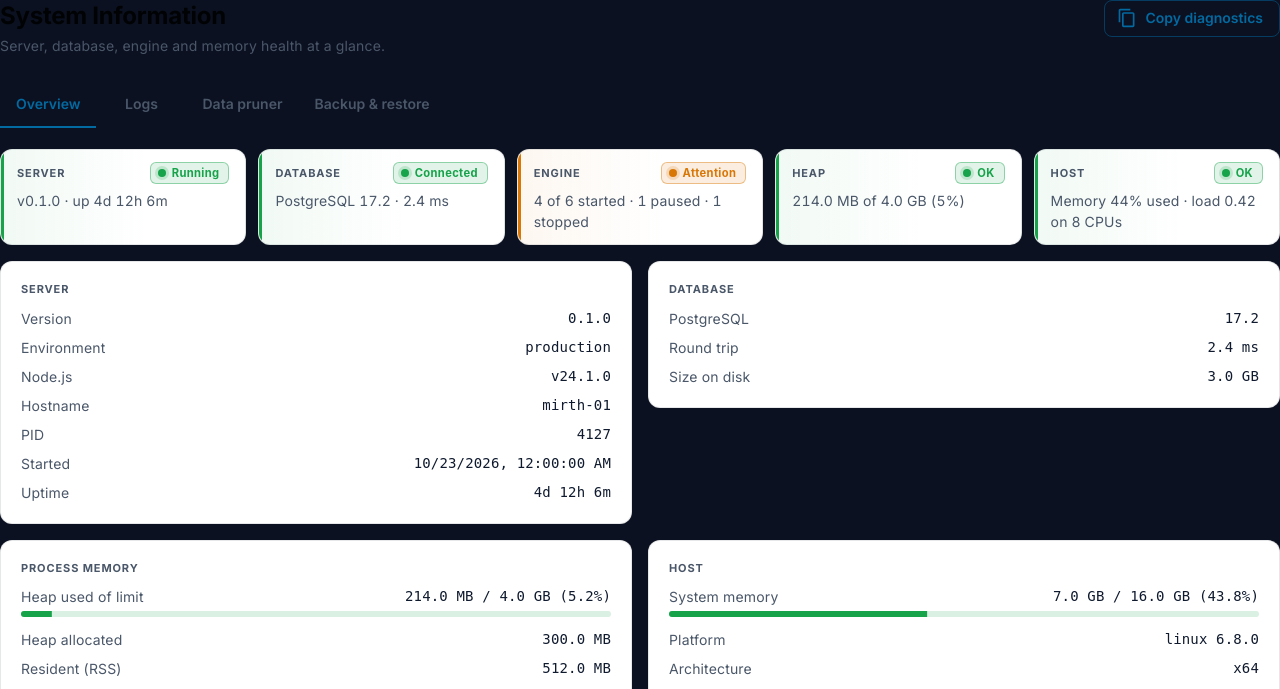
it: SystemInfoPage tabs › moves to a tab’s own path with one click
Click the tab "Logs": (142, 104) [96,80,186,128]
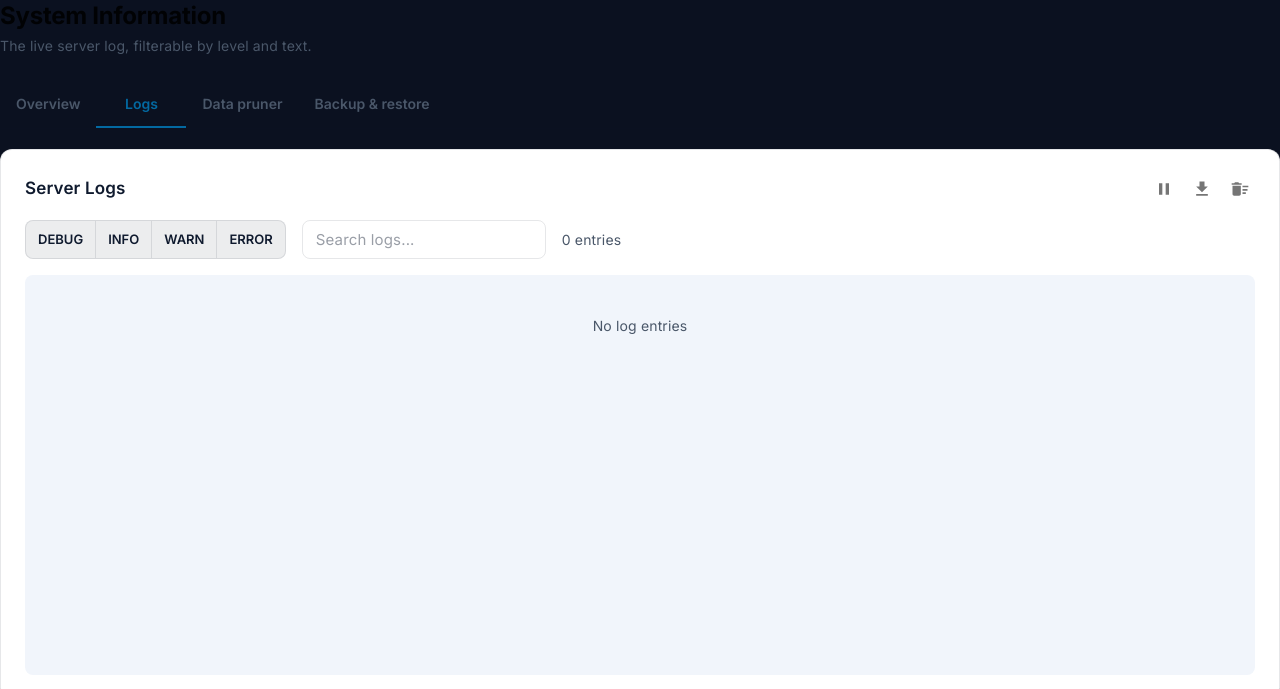
Click the tab "Backup & restore": (372, 104) [298,80,446,128]
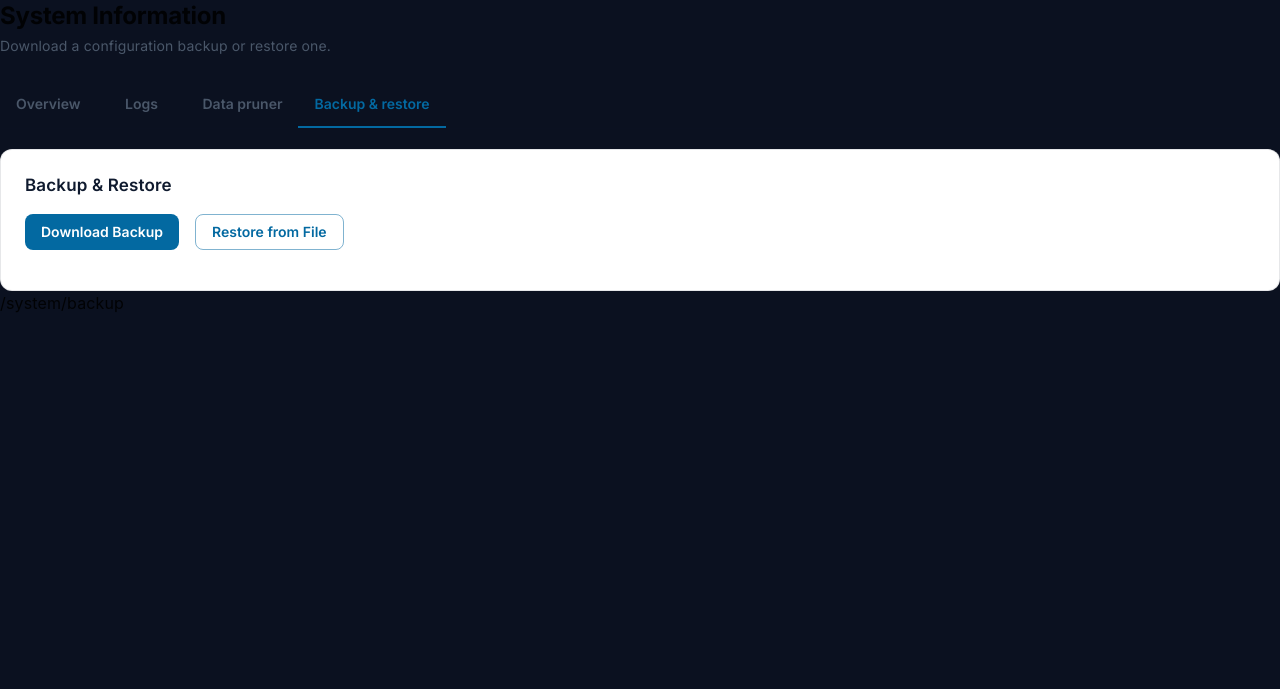
Now the text with test id "where" reads "/system/backup", box [0,294,124,314]
